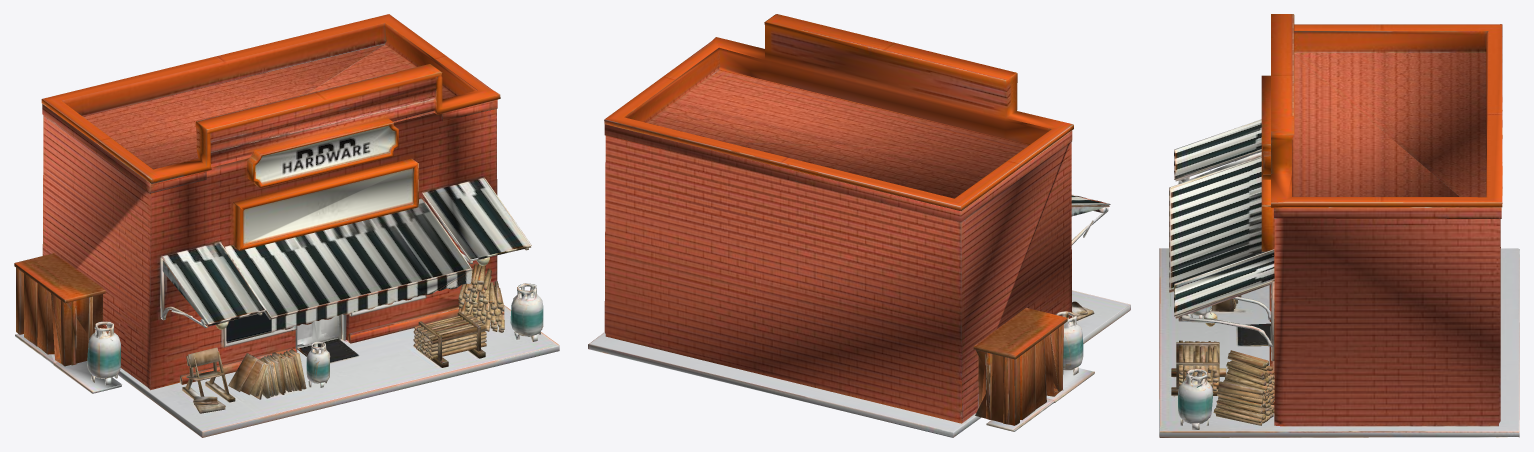
The model's file is bld_hardware_store.glb.
3 renders of one model, left to right at view 1: azimuth 30°, elevation 25°; view 2: azimuth 150°, elevation 25°; view 3: azimuth 270°, elevation 25°, orthographic. The views are drawn at different scales.
Size of the model in its own units: 0.9575 by 0.5938 by 0.7173.
1 material, 1 textured.
